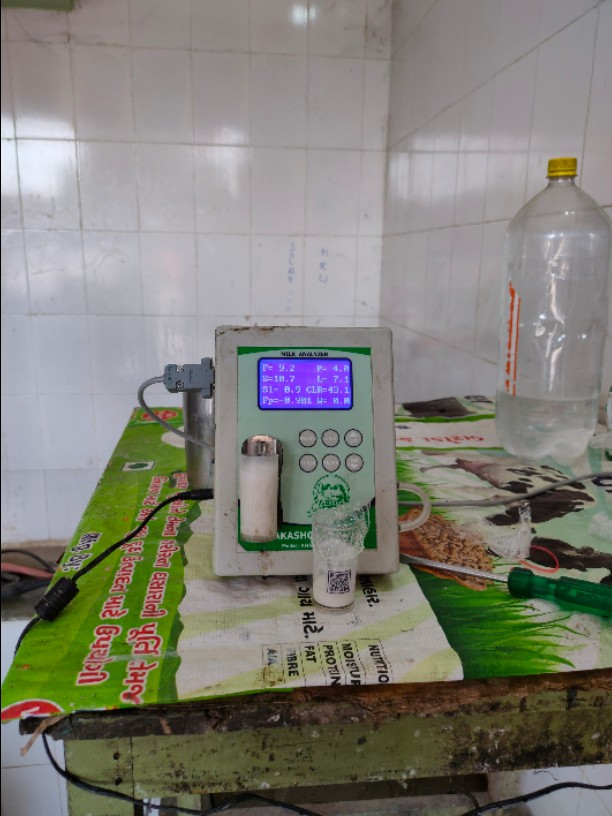lcd: (248, 352, 362, 418)
qr: (319, 566, 357, 597)
